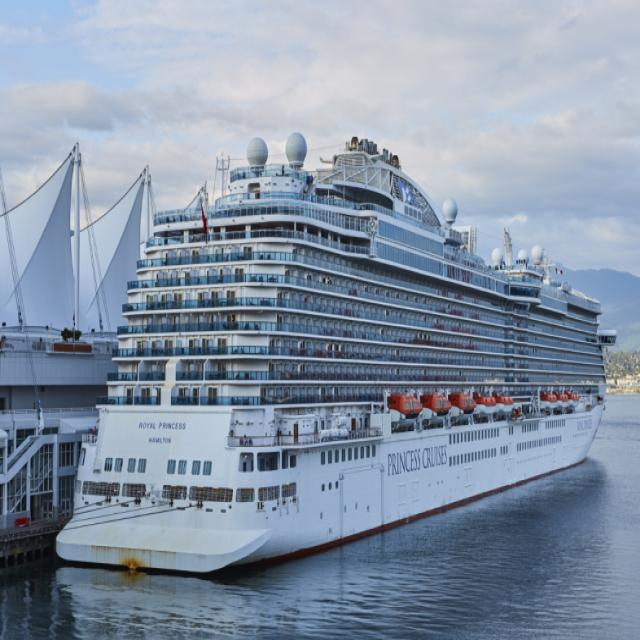cruises: (52, 127, 621, 586)
